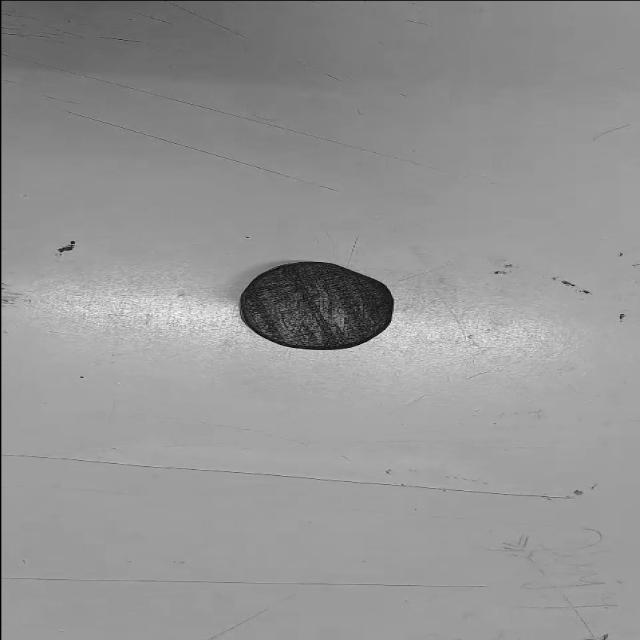bcircle: (237, 260, 396, 349)
